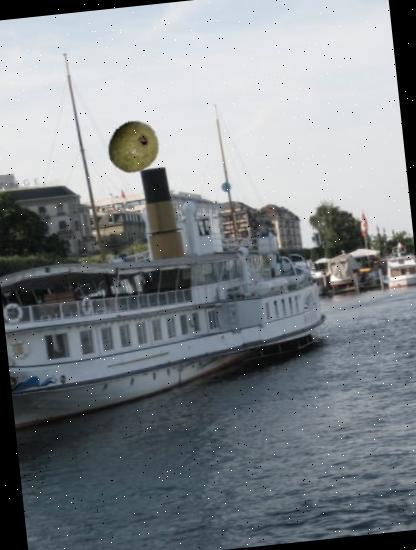Guava: (103, 118, 162, 176)
